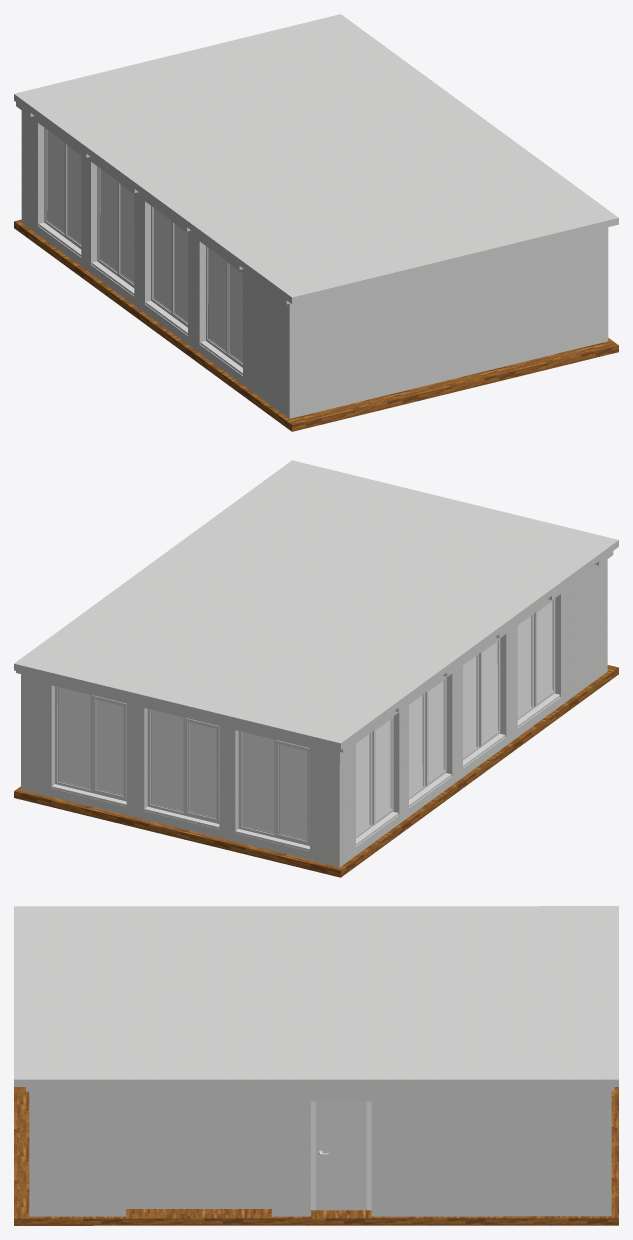
The model's file is FloorPlan230_physics.fbx.
3 views of the same model, one above another, from view 1: azimuth 30°, elevation 25°; view 2: azimuth 150°, elevation 25°; view 3: azimuth 270°, elevation 25° (orthographic). The views are drawn at different scales.
Visible parts, largest first — view 1: FP230:Cube.1227, FP230:Room.021, FP230:Floor, FP230:polySurface15, FP230:polySurface16, FP230:polySurface18, FP230:polySurface17, FP230:Window.021, FP230:Window.022, FP230:Window.024, FP230:Window.025; view 2: FP230:Cube.1227, FP230:Room.021, FP230:Floor, FP230:polySurface13, FP230:polySurface14, FP230:polySurface2, FP230:polySurface15, FP230:polySurface16, FP230:polySurface18, FP230:polySurface17, FP230:polySurface12, FP230:polySurface5 (+5 smaller); view 3: FP230:Cube.1227, FP230:Room.021, FP230:Floor, FP230:Door.018, FP230:DoorFrame.015.
Boxes of the visible parts, <box> form: FP230:Cube.1227: <box>14,14,618,304</box>; FP230:Room.021: <box>21,110,608,418</box>; FP230:Floor: <box>14,219,618,431</box>; FP230:polySurface15: <box>47,130,81,243</box>; FP230:polySurface16: <box>100,169,134,282</box>; FP230:polySurface18: <box>208,248,242,362</box>; FP230:polySurface17: <box>154,208,187,322</box>; FP230:Window.021: <box>38,128,81,256</box>; FP230:Window.022: <box>91,166,134,295</box>; FP230:Window.024: <box>200,246,242,374</box>; FP230:Window.025: <box>145,206,187,334</box>; FP230:Cube.1227: <box>14,460,618,752</box>; FP230:Room.021: <box>21,559,607,867</box>; FP230:Floor: <box>14,665,618,877</box>; FP230:polySurface13: <box>151,710,215,817</box>; FP230:polySurface14: <box>242,732,306,839</box>; FP230:polySurface2: <box>59,687,123,794</box>; FP230:polySurface15: <box>356,720,390,833</box>; FP230:polySurface16: <box>409,681,443,795</box>; FP230:polySurface18: <box>517,601,552,715</box>; FP230:polySurface17: <box>463,642,497,755</box>; FP230:polySurface12: <box>144,709,219,828</box>; FP230:polySurface5: <box>52,686,126,806</box>; FP230:Cube.1227: <box>14,906,618,1091</box>; FP230:Room.021: <box>29,1087,611,1216</box>; FP230:Floor: <box>14,1087,618,1225</box>; FP230:Door.018: <box>316,1101,366,1210</box>; FP230:DoorFrame.015: <box>311,1101,371,1210</box>.
Size of the model in its own units: 676 by 266 by 997.
